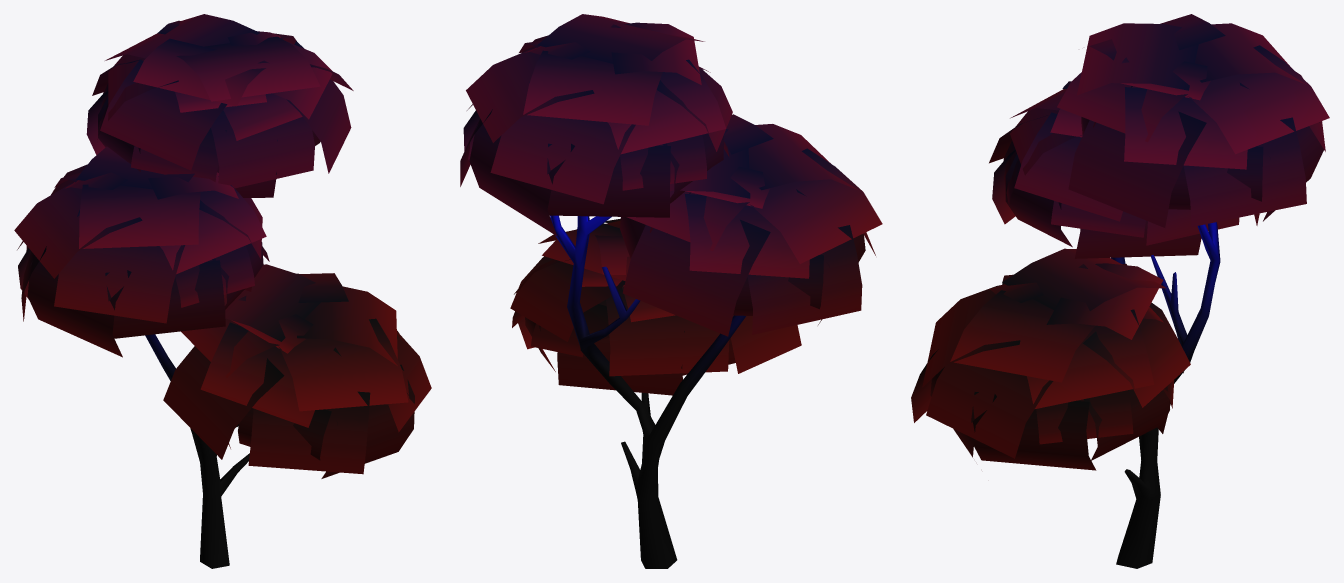
File: tree4_C.fbx
3 views of the same model, side by side, from view 1: azimuth 30°, elevation 25°; view 2: azimuth 150°, elevation 25°; view 3: azimuth 270°, elevation 25° (orthographic). The views are drawn at different scales.
Visible parts, largest first — view 1: Tree_03_a_LOD0.002; view 2: Tree_03_a_LOD0.002; view 3: Tree_03_a_LOD0.002.
Part boxes in pixels (x1,y1,x2,y2): Tree_03_a_LOD0.002: (14, 14, 431, 568); Tree_03_a_LOD0.002: (460, 14, 882, 568); Tree_03_a_LOD0.002: (911, 14, 1329, 568).
Size of the model in its own units: 295 by 395 by 284.
